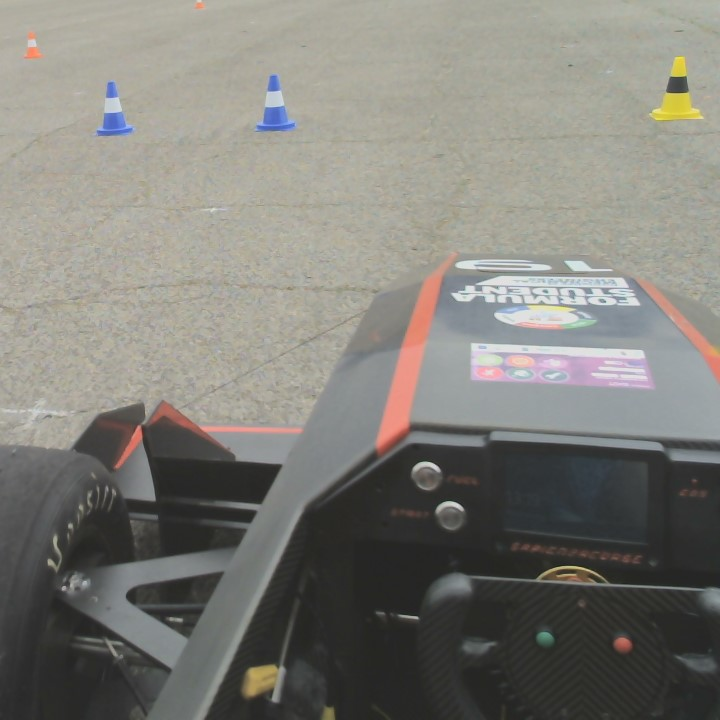cone: (95, 77, 135, 134), (256, 76, 294, 128)
